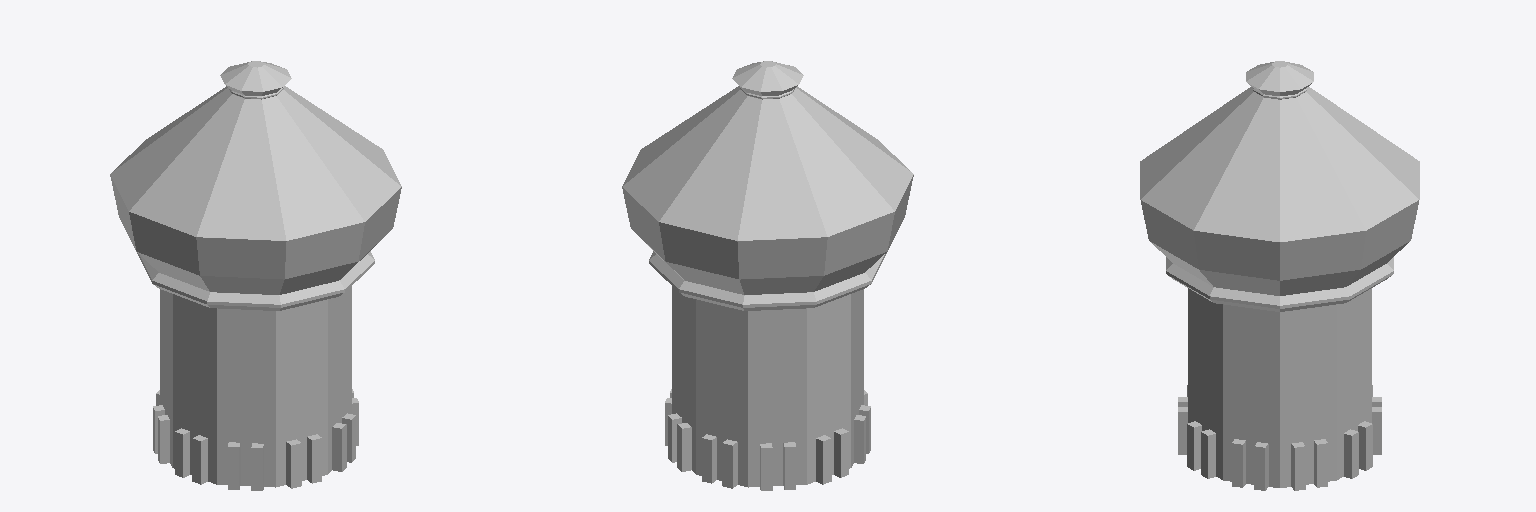
File: Minaret.obj
3 renders of one model, left to right at view 1: azimuth 30°, elevation 25°; view 2: azimuth 150°, elevation 25°; view 3: azimuth 270°, elevation 25°, orthographic.
Parts seen in each view (by area): view 1: group3 Minaret_02 polySurface51, polySurface50 group3 Minaret_02, Minaret_02 group4; view 2: group3 Minaret_02 polySurface51, polySurface50 group3 Minaret_02, Minaret_02 group4; view 3: group3 Minaret_02 polySurface51, polySurface50 group3 Minaret_02, Minaret_02 group4.
Boxes of the visible parts, x1,y1,x2,y2 form: group3 Minaret_02 polySurface51: [110, 61, 401, 310]; polySurface50 group3 Minaret_02: [160, 286, 351, 473]; Minaret_02 group4: [153, 389, 358, 490]; group3 Minaret_02 polySurface51: [622, 61, 913, 310]; polySurface50 group3 Minaret_02: [672, 286, 863, 473]; Minaret_02 group4: [665, 389, 870, 490]; group3 Minaret_02 polySurface51: [1140, 61, 1419, 311]; polySurface50 group3 Minaret_02: [1188, 288, 1371, 474]; Minaret_02 group4: [1178, 385, 1381, 490].
Size of the model in its own units: 497 by 716 by 472.